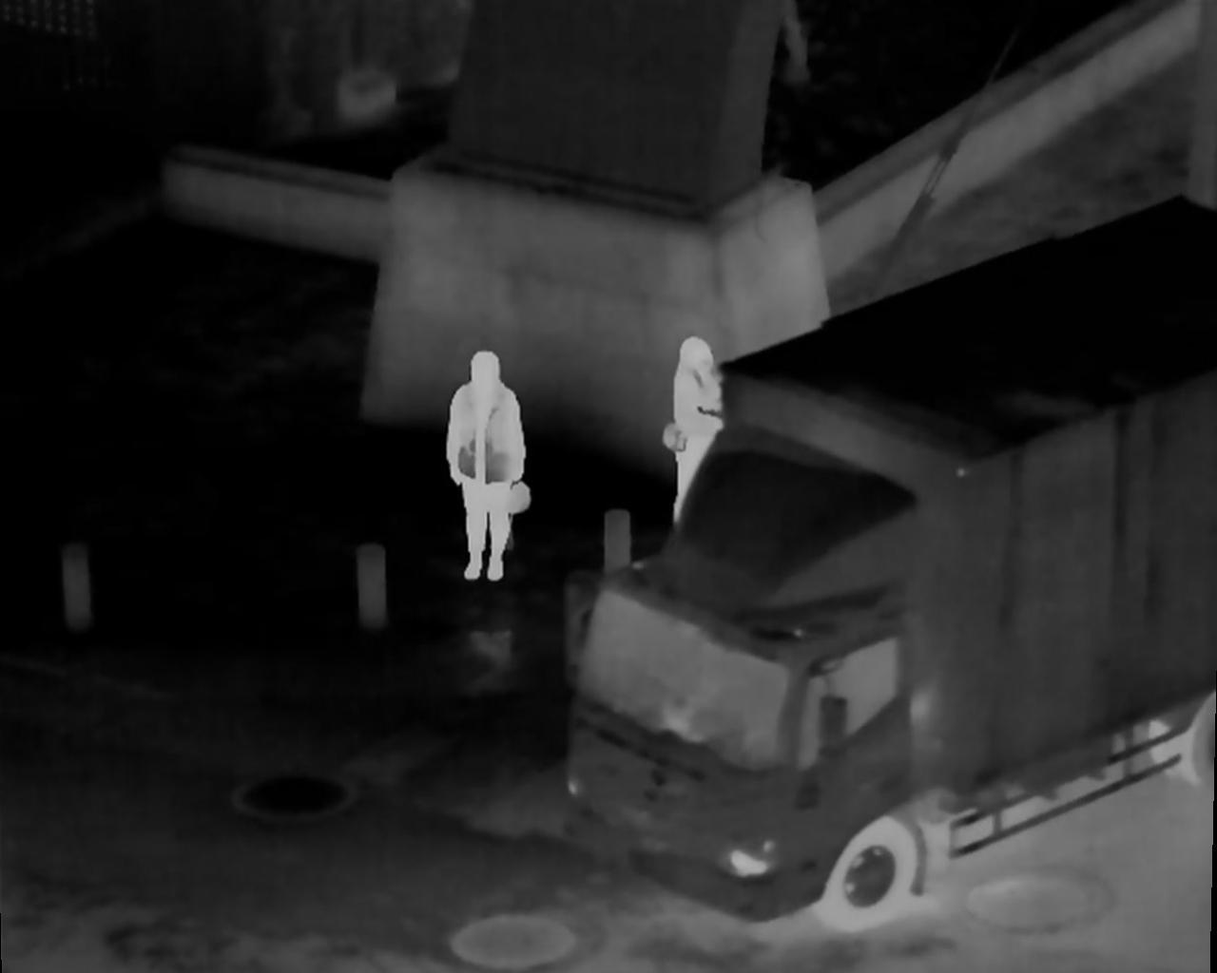person: (441, 352, 531, 582), (660, 338, 730, 544)
